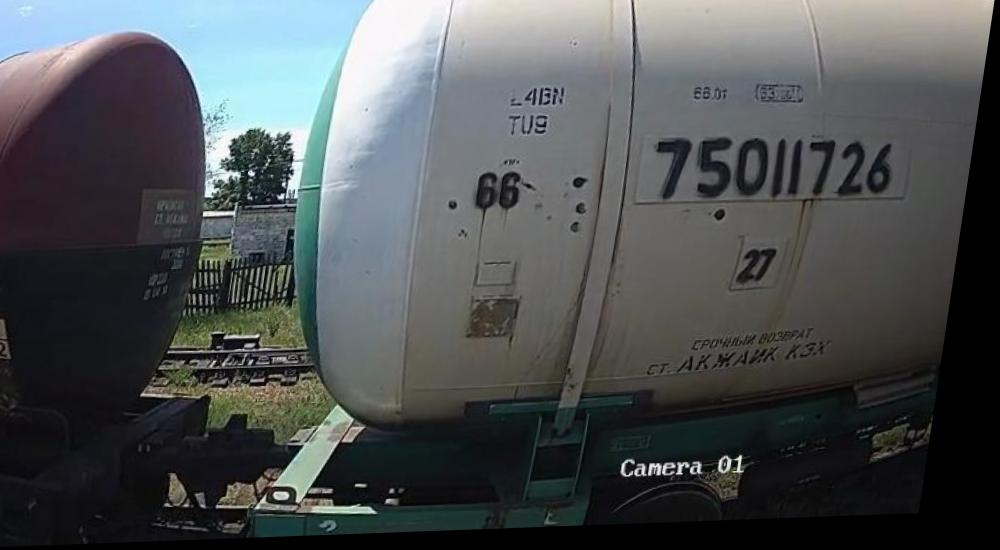Wagon-number: (646, 135, 908, 213)
